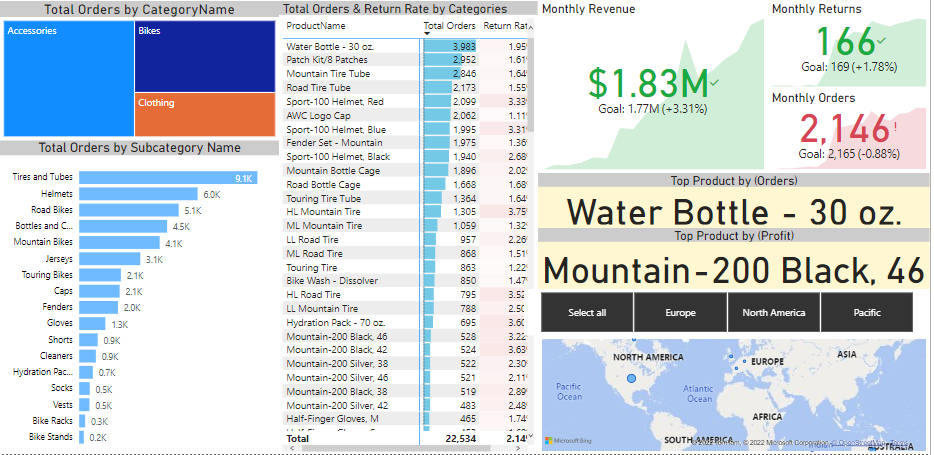

What the dashboard file says about the page in this screenshot:
{"tool":"powerbi","page":{"name":"Executive Overview","canvas":[1280,720],"ordinal":0},"visuals":[{"type":"image","box":[0,0,197.1,97.7],"z":0},{"type":"barChart","title":"Total Orders by Subcategory Name","fields":{"Y":["AW_Sales.Total Orders"],"Category":["AW_Product_Subcategories_Lookup.SubcategoryName"]},"box":[0,288,384,432],"z":1000},{"type":"treemap","fields":{"Group":["AW_Product_Categories_Lookup.CategoryName","AW_Product_Subcategories_Lookup.SubcategoryName"],"Values":["AW_Sales.Total Orders"]},"box":[0,96,384,192],"z":2000},{"type":"pivotTable","title":"Total Orders & Return Rate by Categories","fields":{"Values":["AW_Sales.Total Orders","AW_Returns.Return Rate"],"Rows":["AW_Product_Categories_Lookup.CategoryName","AW_Product_Subcategories_Lookup.SubcategoryName","AW_Product_Lookup.ProductName"]},"box":[384.7,95.7,356.1,624.9],"z":3000},{"type":"actionButton","box":[0,0,100,40],"z":4000},{"type":"kpi","title":"Monthly Revenue","fields":{"Indicator":["AW_Sales.Total Revenue"],"TrendLine":["AW_Calendar_Lookup.Start of Month"],"Goal":["AW_Sales.Prev Month Revenue"]},"box":[740.8,95.7,315.8,236.9],"z":5000},{"type":"kpi","title":"Monthly Orders","fields":{"TrendLine":["AW_Calendar_Lookup.Start of Month"],"Indicator":["AW_Sales.Total Orders"],"Goal":["AW_Sales.Prev Month Orders"]},"box":[1056.6,218.4,223.4,114.2],"z":6000},{"type":"kpi","title":"Monthly Returns","fields":{"TrendLine":["AW_Calendar_Lookup.Start of Month"],"Indicator":["AW_Returns.Total Returns"],"Goal":["AW_Returns.Prev Month Returns"]},"box":[1056.6,95.7,223.4,122.6],"z":7000},{"type":"card","title":"Top Product by (Orders)","fields":{"Values":["Min(AW_Product_Lookup.ProductName)"]},"box":[740.8,332.6,539.2,75.6],"z":8000},{"type":"card","title":"Top Product by (Profit)","fields":{"Values":["Min(AW_Product_Lookup.ProductName)"]},"box":[740.8,408.2,539.2,84],"z":9000},{"type":"map","fields":{"Category":["AW_Territories_Lookup.Country"],"Size":["AW_Sales.Total Orders"]},"box":[740.8,556,539.2,164.6],"z":10000},{"type":"slicer","fields":{"Values":["AW_Territories_Lookup.Continent"]},"box":[720.6,492.2,559.4,63.8],"z":11000}]}

Visuals, with their boxes on the page's 1280x720 design canvas (x1, y1, x2, y2). These are canvas units, not pixel positions in the 934x455 screenshot, which may show the page scaled, cropped or inside an application window:
image: (0, 0, 197, 98)
"Total Orders by Subcategory Name" barChart: (0, 288, 384, 720)
treemap - AW_Product_Categories_Lookup.CategoryName x AW_Product_Subcategories_Lookup.SubcategoryName: (0, 96, 384, 288)
"Total Orders & Return Rate by Categories" pivotTable: (385, 96, 741, 721)
actionButton: (0, 0, 100, 40)
"Monthly Revenue" kpi: (741, 96, 1057, 333)
"Monthly Orders" kpi: (1057, 218, 1280, 333)
"Monthly Returns" kpi: (1057, 96, 1280, 218)
"Top Product by (Orders)" card: (741, 333, 1280, 408)
"Top Product by (Profit)" card: (741, 408, 1280, 492)
map - AW_Territories_Lookup.Country x AW_Sales.Total Orders: (741, 556, 1280, 721)
slicer - AW_Territories_Lookup.Continent: (721, 492, 1280, 556)
